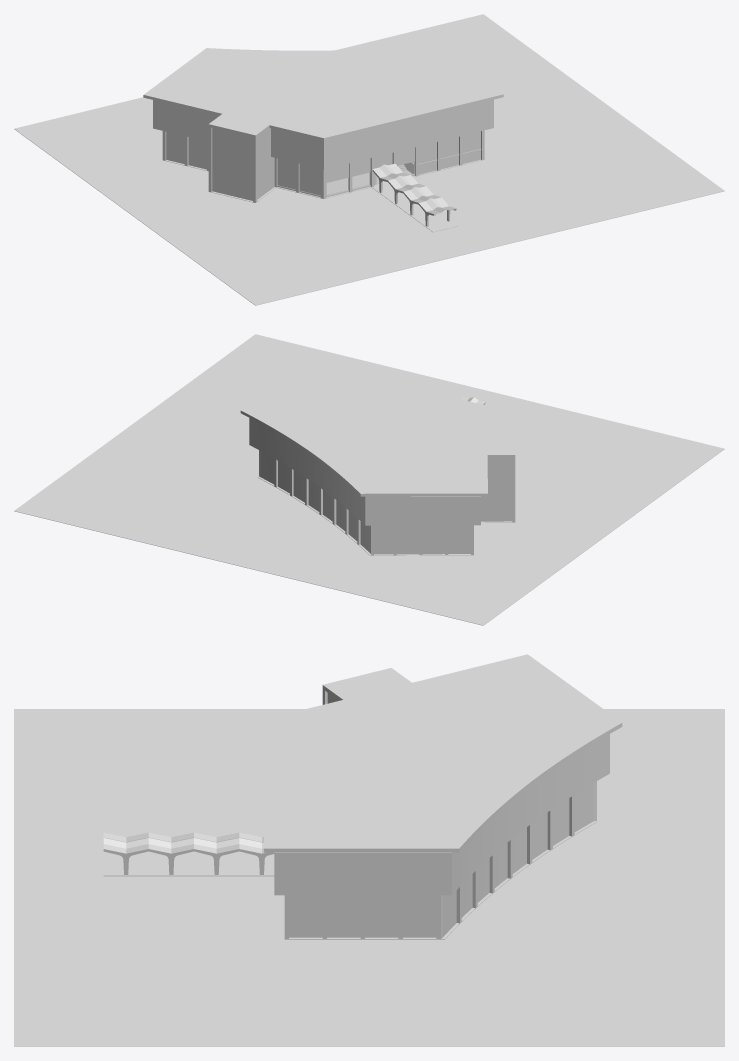
The model's file is Environment_Visual.glb.
The picture shows the model from 3 angles, top to bottom: view 1: azimuth 30°, elevation 25°; view 2: azimuth 150°, elevation 25°; view 3: azimuth 270°, elevation 25°; orthographic projection. The views are drawn at different scales.
Parts seen in each view (by area): view 1: Object, Object.312; view 2: Object; view 3: Object.
Boxes of the visible parts, bbox=[...] form: Object: bbox=[14, 14, 724, 305]; Object.312: bbox=[327, 162, 413, 194]; Object: bbox=[14, 334, 724, 625]; Object: bbox=[14, 654, 724, 1046].
Bounding box in the file's own units: 77.58 × 13.95 × 69.12.
3 materials, 3 textured.
